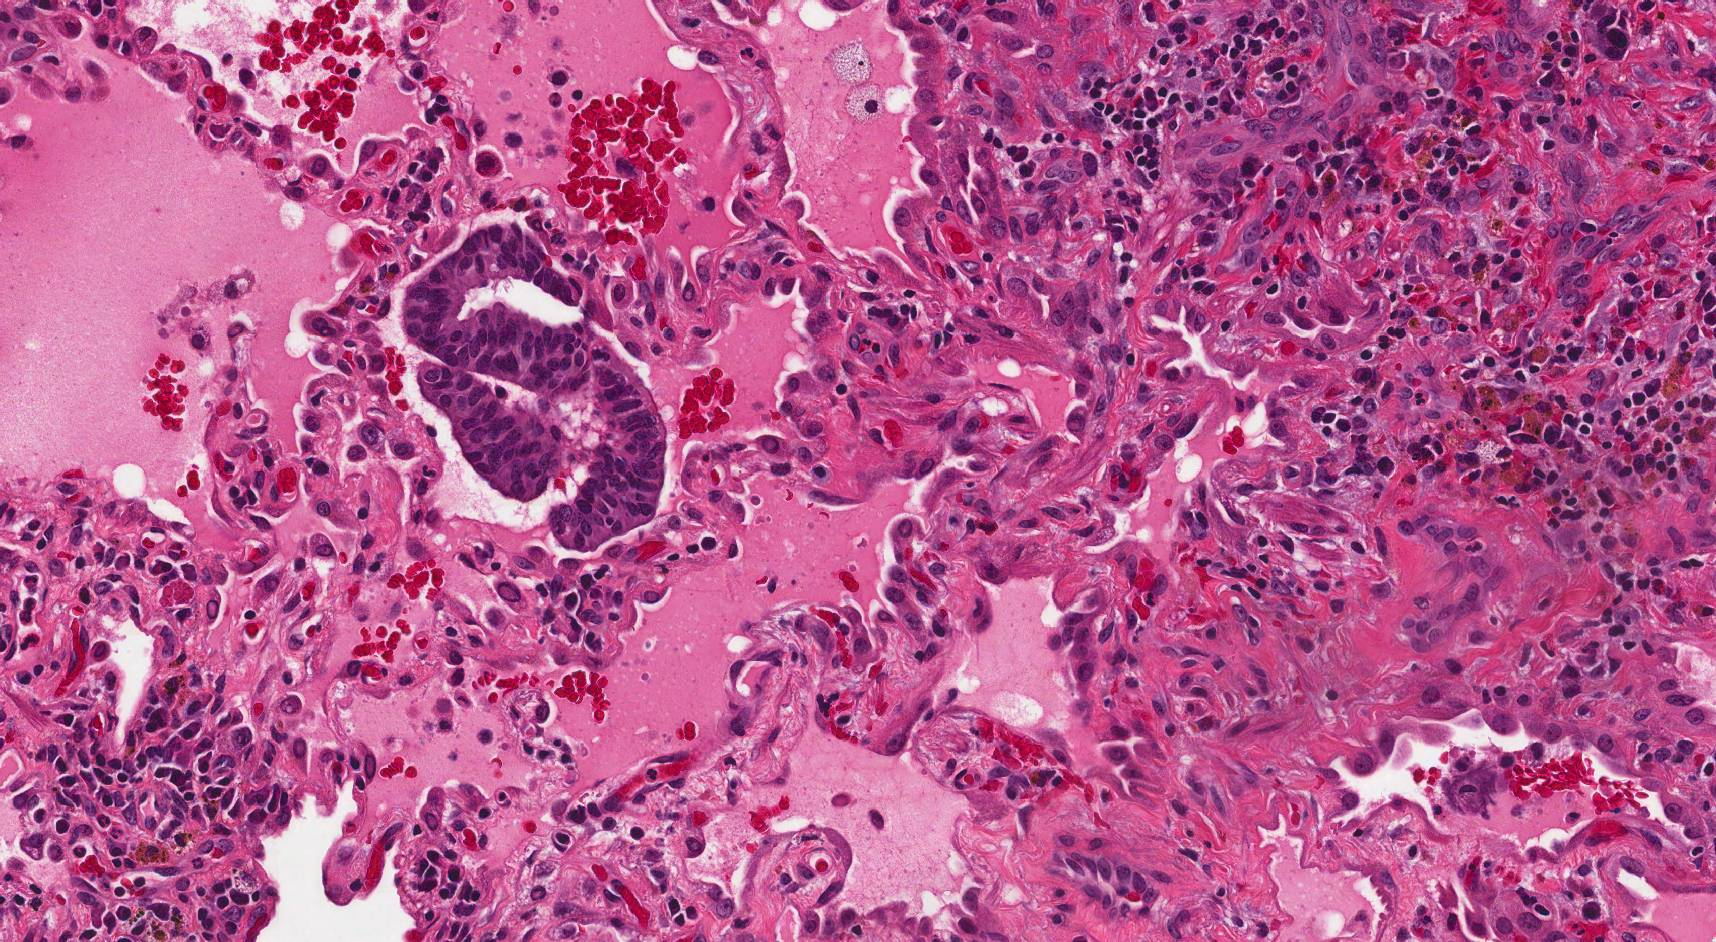stas: (402, 222, 667, 555)
